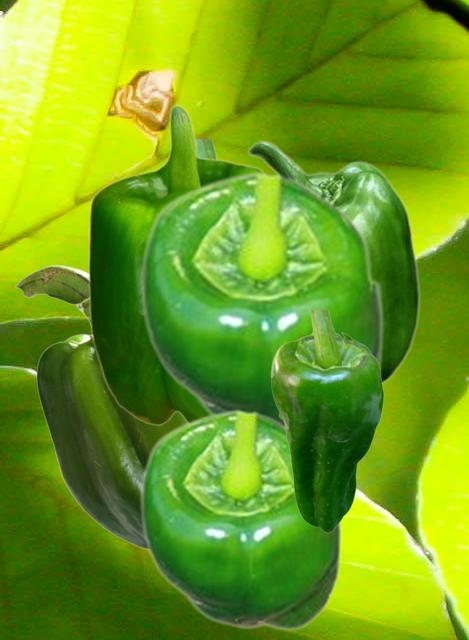bell_pepper: (138, 170, 384, 421), (87, 104, 264, 428), (15, 264, 183, 549), (138, 408, 342, 630), (245, 140, 420, 384), (270, 310, 383, 532), (197, 139, 217, 157)
